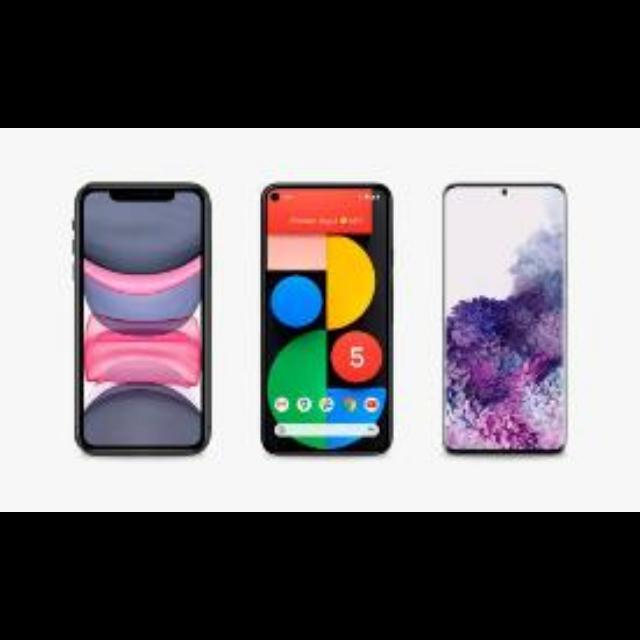Phone: (74, 183, 210, 455), (264, 181, 392, 453), (442, 183, 568, 455)
